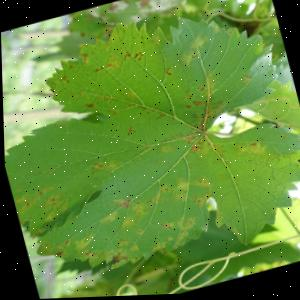Folha: (0, 0, 300, 299)
Fungo: (9, 172, 73, 231), (89, 194, 152, 242), (98, 235, 143, 268), (60, 228, 99, 265), (132, 181, 173, 212), (232, 135, 272, 164), (166, 176, 196, 203), (110, 194, 131, 211), (193, 173, 212, 191), (87, 159, 105, 175), (202, 195, 218, 212), (131, 50, 145, 62), (158, 219, 172, 231), (240, 73, 253, 83), (191, 98, 205, 107), (124, 124, 136, 134), (120, 50, 131, 60), (163, 66, 173, 76), (105, 60, 117, 68), (181, 93, 192, 101), (92, 160, 103, 168), (189, 144, 199, 151), (185, 135, 195, 142), (93, 65, 104, 71), (84, 101, 94, 107), (184, 103, 193, 109), (196, 85, 205, 91), (249, 142, 257, 147)
